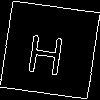H: (25, 25, 68, 77)
